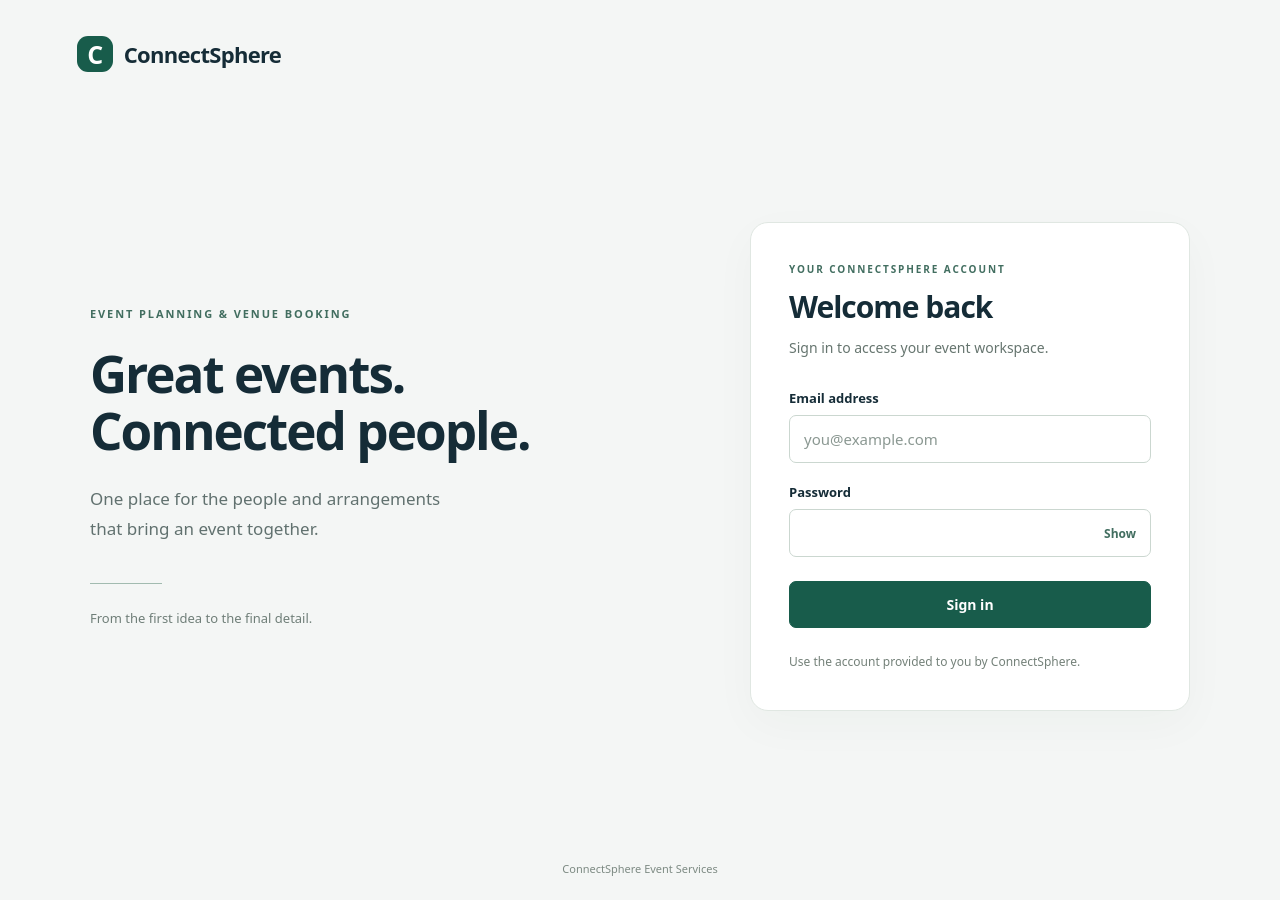
it: [AUTH-FLOW-001] Valid sign-in displays the backend-verified identity
Type "user@client.sg" into the field labelled "Email address" at {"x": 970, "y": 439}, box left=789, top=415, right=1151, bottom=463
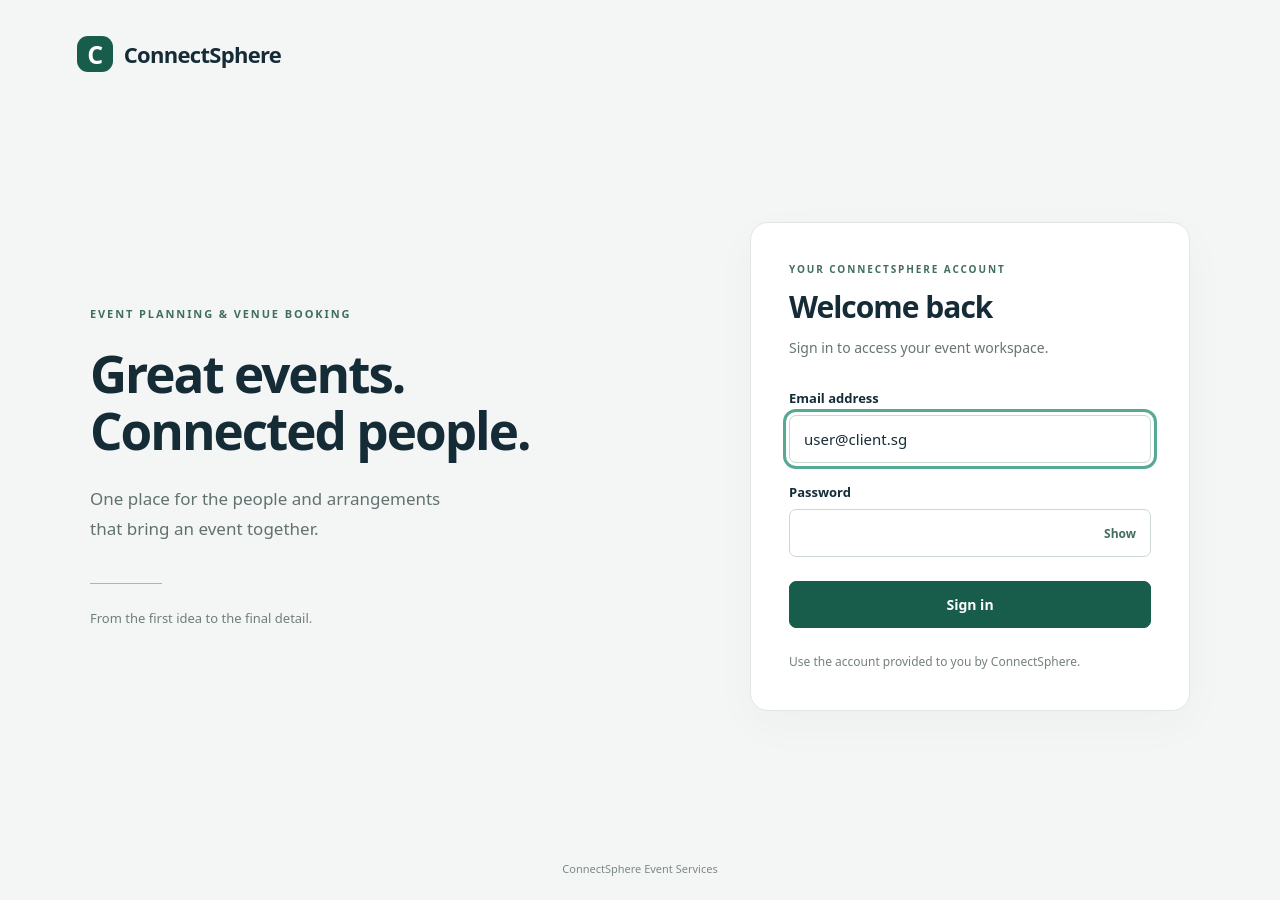
Type "SomePassword!" into the password field labelled "Password" at {"x": 970, "y": 533}, box left=789, top=509, right=1151, bottom=557
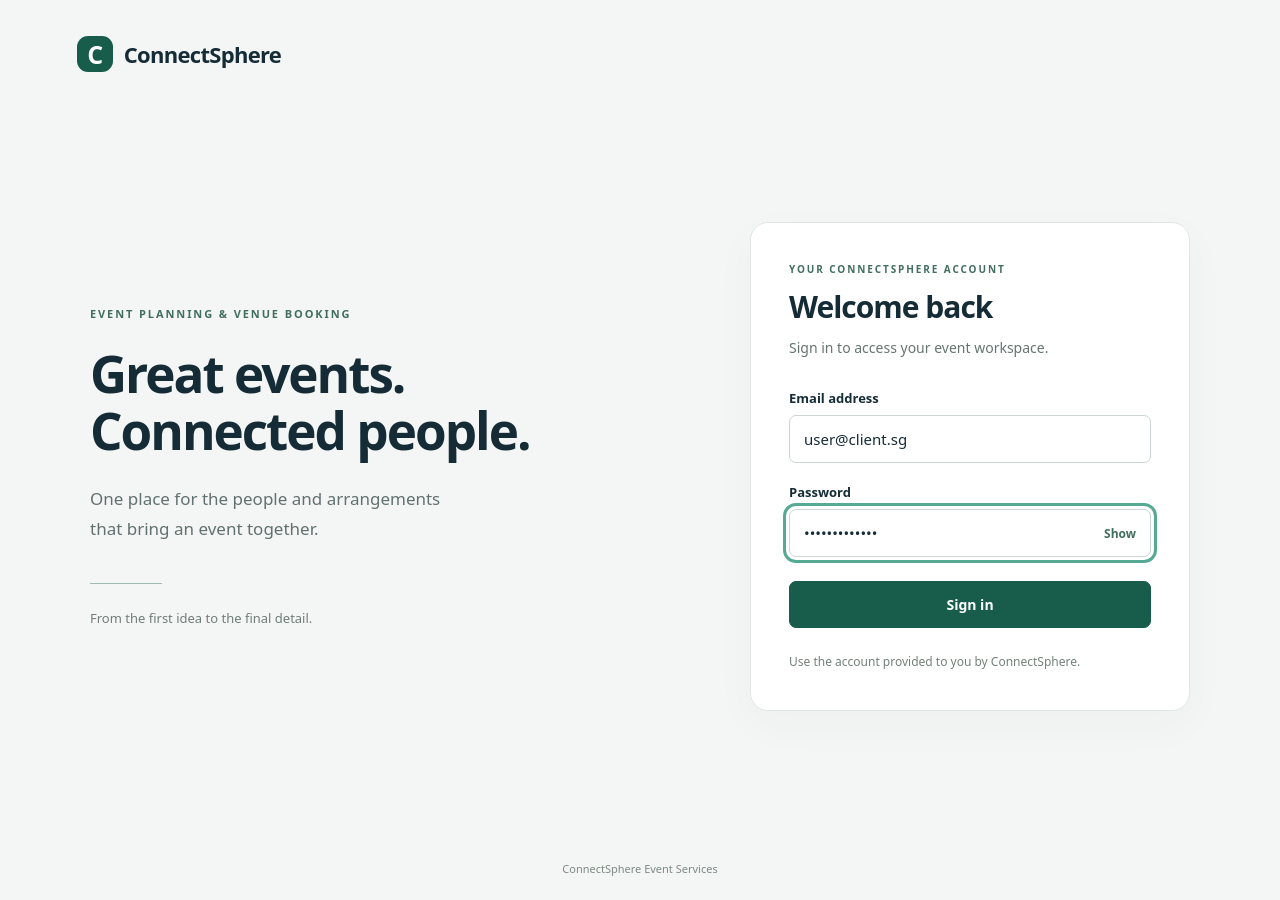
Click the button "Sign in" at {"x": 970, "y": 604}, box left=789, top=581, right=1151, bottom=628
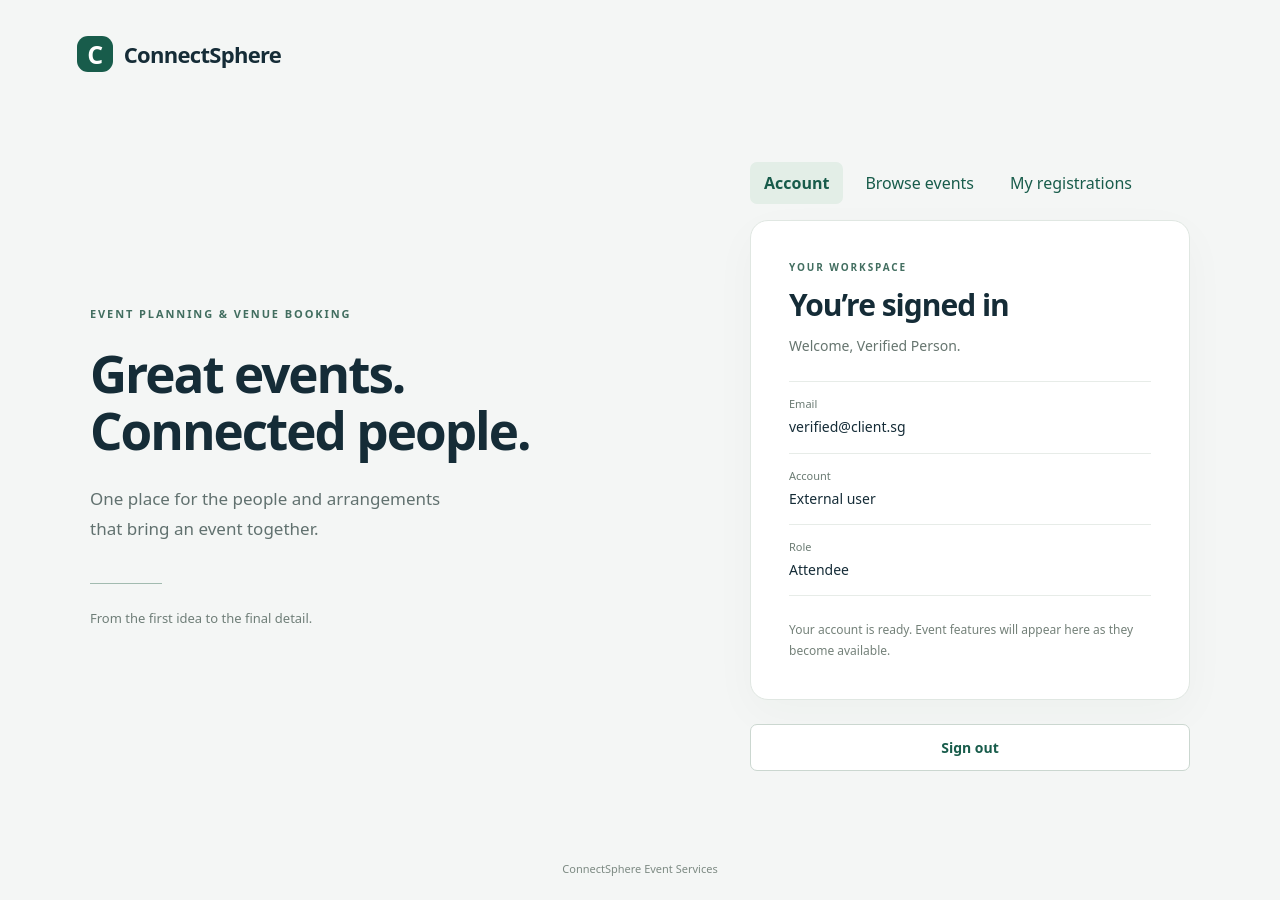
Expected: the text "Welcome, Verified Person." is shown, left=789, top=336, right=961, bottom=355
Expected: the text "verified@client.sg" is shown, left=789, top=417, right=906, bottom=436
